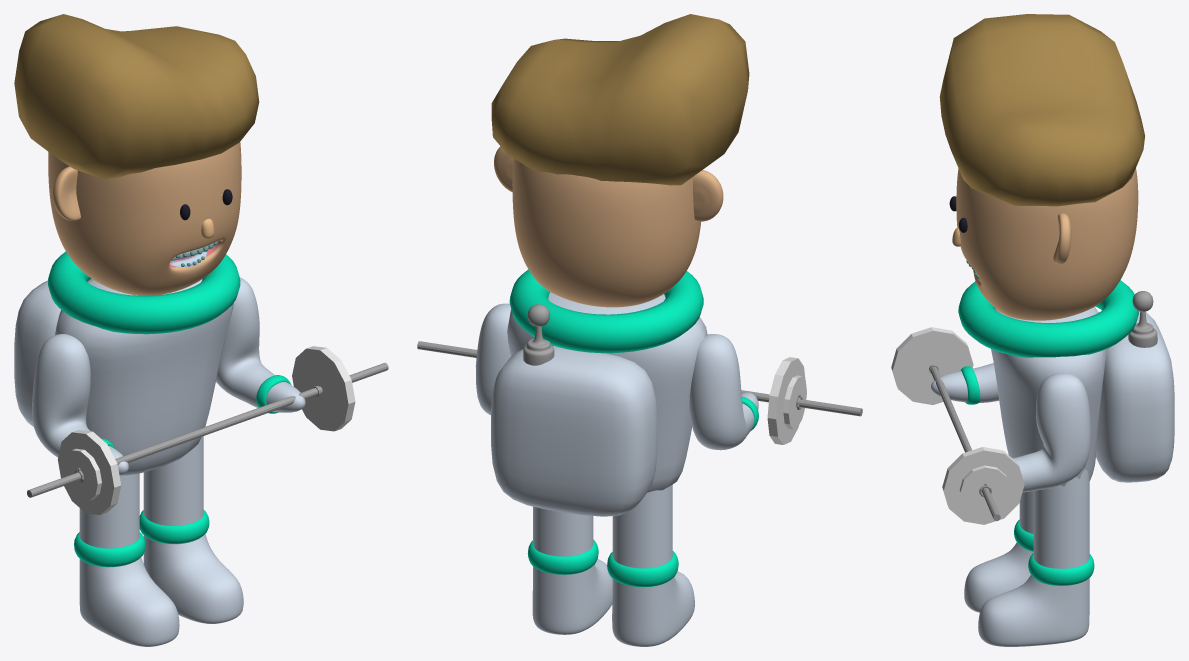
Rendered from gabo-top.glb.
The picture shows the model from 3 angles, left to right: view 1: azimuth 30°, elevation 25°; view 2: azimuth 150°, elevation 25°; view 3: azimuth 270°, elevation 25°; orthographic projection. The views are drawn at different scales.
Parts seen in each view (by area): view 1: Cube.055, hlava.002, Cube.042, Cube.043, Cube.044, Torus.005, Cube.020, Cube.047, Cylinder.003, Cube.051, Cylinder.002, Cylinder.006 (+4 smaller); view 2: Cube.055, Cube.051, hlava.002, Cube.044, Torus.005, Cube.042, Cube.043, Cube.020, Cube.047, Cylinder.018, Cylinder.006, Cube.046 (+4 smaller); view 3: Cube.055, hlava.002, Cube.043, Cube.051, Torus.005, Cube.042, Cube.047, Cylinder.006, Cube.044, Cylinder.003, Cylinder.004, Cube.020 (+5 smaller).
Boxes of the visible parts, x1=… form: Cube.055: x1=14, y1=14, x2=259, y2=179; hlava.002: x1=48, y1=142, x2=241, y2=295; Cube.042: x1=55, y1=278, x2=233, y2=475; Cube.043: x1=143, y1=436, x2=243, y2=623; Cube.044: x1=79, y1=473, x2=179, y2=646; Torus.005: x1=48, y1=251, x2=240, y2=334; Cube.020: x1=32, y1=334, x2=128, y2=475; Cube.047: x1=216, y1=277, x2=305, y2=412; Cylinder.003: x1=292, y1=346, x2=355, y2=431; Cube.051: x1=14, y1=280, x2=60, y2=426; Cylinder.002: x1=27, y1=363, x2=388, y2=497; Cylinder.006: x1=57, y1=430, x2=121, y2=514; Cube.055: x1=491, y1=14, x2=749, y2=185; Cube.051: x1=491, y1=346, x2=657, y2=516; hlava.002: x1=512, y1=158, x2=700, y2=307; Cube.044: x1=612, y1=485, x2=694, y2=646; Torus.005: x1=509, y1=269, x2=703, y2=353; Cube.042: x1=507, y1=292, x2=707, y2=492; Cube.043: x1=532, y1=506, x2=612, y2=634; Cube.020: x1=689, y1=334, x2=758, y2=450; Cube.047: x1=476, y1=303, x2=510, y2=415; Cylinder.018: x1=494, y1=146, x2=723, y2=221; Cylinder.006: x1=767, y1=357, x2=805, y2=444; Cube.046: x1=607, y1=551, x2=678, y2=587; Cube.055: x1=939, y1=14, x2=1144, y2=206; hlava.002: x1=956, y1=168, x2=1138, y2=320; Cube.043: x1=978, y1=469, x2=1089, y2=646; Cube.051: x1=1096, y1=311, x2=1174, y2=482; Torus.005: x1=958, y1=280, x2=1138, y2=357; Cube.042: x1=991, y1=307, x2=1107, y2=486; Cube.047: x1=1013, y1=373, x2=1090, y2=492; Cylinder.006: x1=891, y1=327, x2=973, y2=404; Cube.044: x1=964, y1=491, x2=1033, y2=612; Cylinder.003: x1=942, y1=447, x2=1024, y2=524; Cylinder.004: x1=959, y1=465, x2=1010, y2=513; Cube.020: x1=931, y1=363, x2=998, y2=402.
Bounding box in the file's own units: 1.76 × 2.54 × 1.16.
